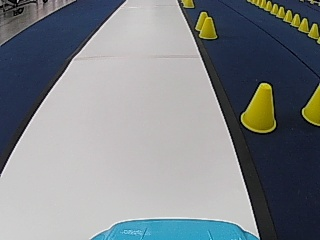cone: (240, 82, 277, 132), (301, 85, 320, 125), (199, 16, 217, 39), (195, 11, 209, 30), (307, 23, 319, 39), (298, 18, 309, 32), (283, 9, 292, 22), (291, 14, 300, 26), (276, 6, 284, 18), (182, 0, 193, 8), (270, 4, 278, 14), (264, 1, 272, 10)
